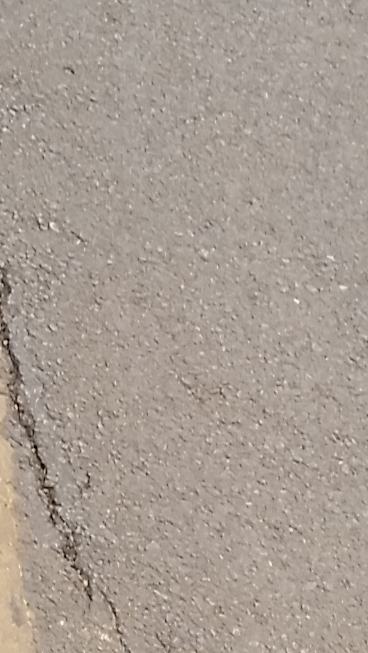A: (1, 279, 159, 646)
